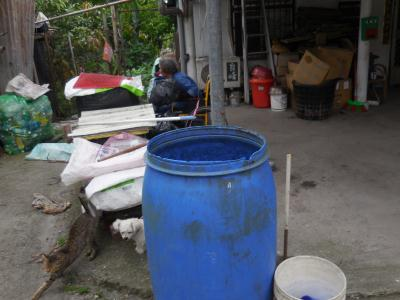bowl: (249, 64, 273, 79)
box: (291, 52, 329, 85)
bucket: (140, 129, 277, 298), (272, 256, 347, 300), (249, 78, 271, 108)
plastic_bag: (3, 89, 57, 156), (148, 75, 200, 119)
